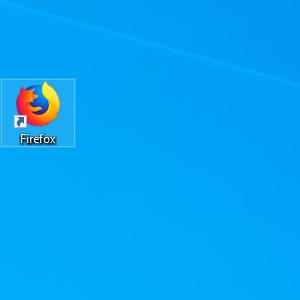firefox: (14, 80, 61, 128)
